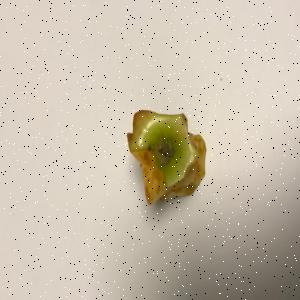Trash: (127, 110, 208, 207)
